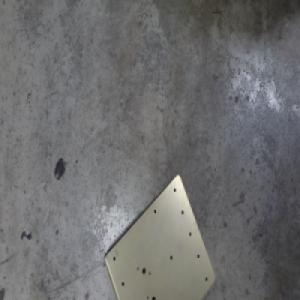MetalSheet: (102, 172, 216, 300)
